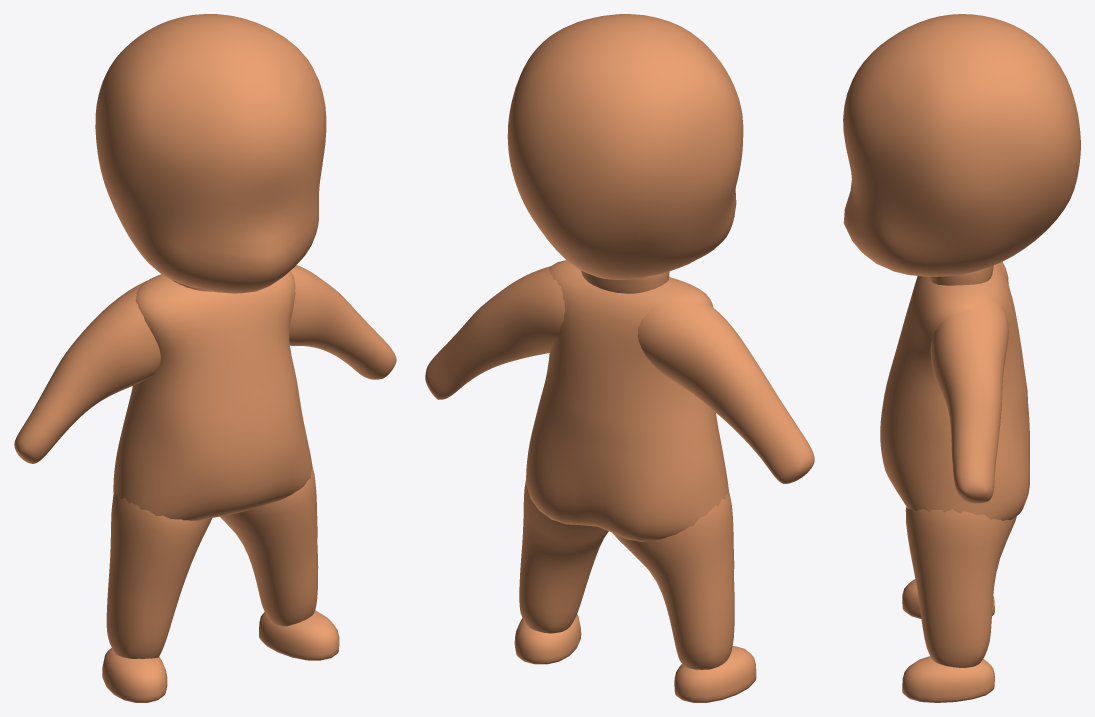
Rendered from player_v3.1.fbx.
The picture shows the model from 3 angles, left to right: view 1: azimuth 30°, elevation 25°; view 2: azimuth 150°, elevation 25°; view 3: azimuth 270°, elevation 25°; orthographic projection. The views are drawn at different scales.
Parts seen in each view (by area): view 1: Cube.001, Cube.004, Cube.005, Cube.006, Cube.007; view 2: Cube.001, Cube.004, Cube.006, Cube.005, Cube.007, Cube.003; view 3: Cube.001, Cube.004, Cube.005, Cube.006, Cube.007, Cube.003.
Part boxes in pixels (box(x1,y1,x2,y2)): Cube.001: box(95, 14, 326, 293); Cube.004: box(113, 271, 312, 520); Cube.005: box(106, 468, 318, 658); Cube.006: box(14, 265, 396, 463); Cube.007: box(102, 610, 339, 702); Cube.001: box(507, 14, 743, 279); Cube.004: box(526, 260, 728, 541); Cube.006: box(425, 266, 814, 483); Cube.005: box(519, 480, 734, 669); Cube.007: box(514, 614, 756, 702); Cube.003: box(581, 270, 669, 293); Cube.001: box(843, 14, 1080, 276); Cube.004: box(880, 263, 1029, 520); Cube.005: box(905, 507, 1016, 667); Cube.006: box(930, 262, 1008, 503); Cube.007: box(902, 579, 994, 702); Cube.003: box(929, 265, 993, 285).
Bounding box in the file's own units: 175 × 282 × 96.93.
